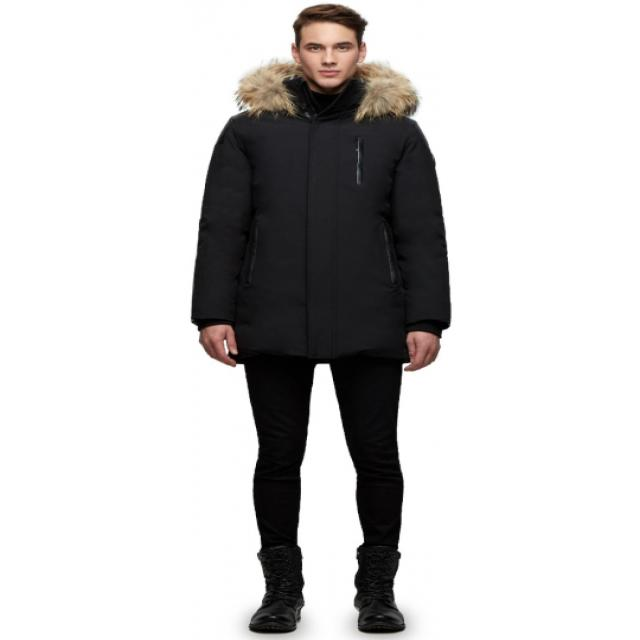human: (172, 7, 469, 640)
